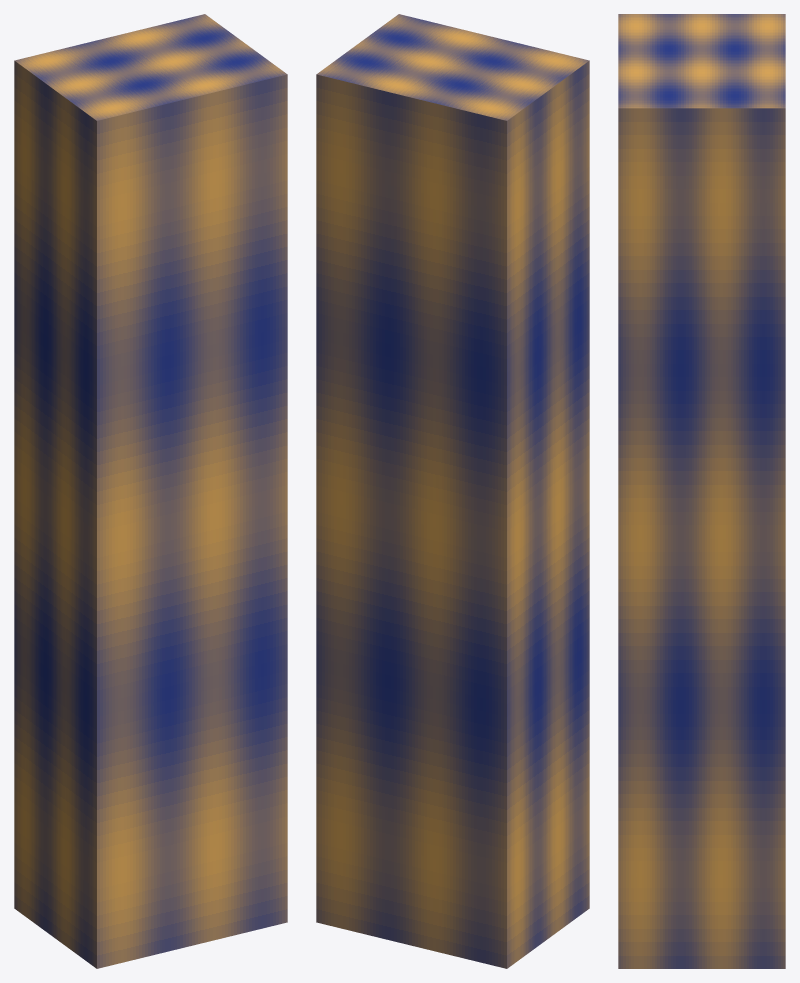
Rendered from figure.fbx.
3 views of the same model, side by side, from view 1: azimuth 30°, elevation 25°; view 2: azimuth 150°, elevation 25°; view 3: azimuth 270°, elevation 25° (orthographic).
Visible parts, largest first — view 1: figure; view 2: figure; view 3: figure.
Boxes of the visible parts, x1,y1,x2,y2 form: figure: [14, 14, 287, 968]; figure: [316, 14, 589, 968]; figure: [618, 14, 785, 968].
Size of the model in its own units: 40 by 30 by 170.
